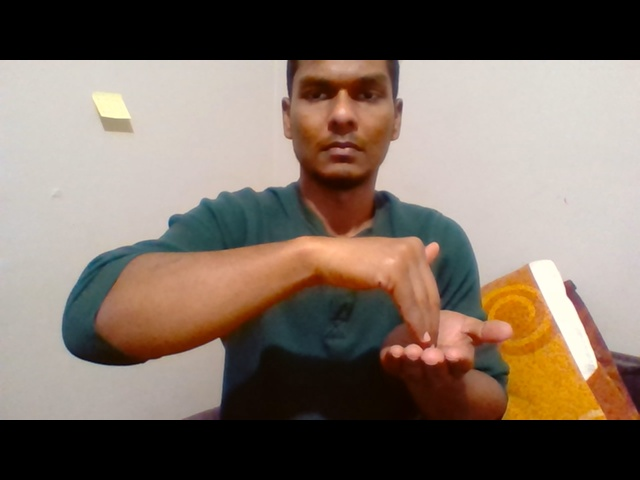ExcuseMe: (303, 227, 516, 388)
